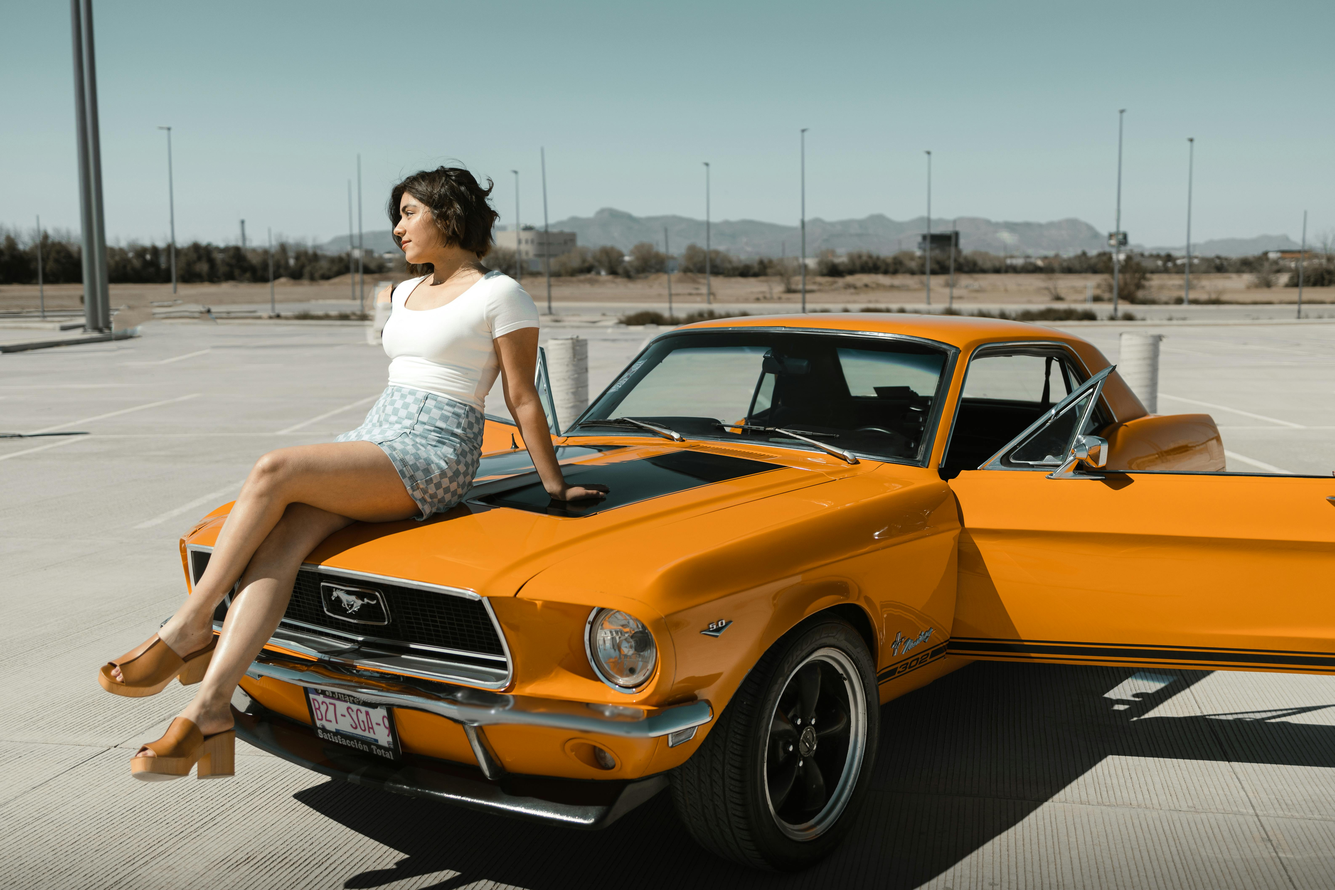other: (170, 314, 1234, 874)
